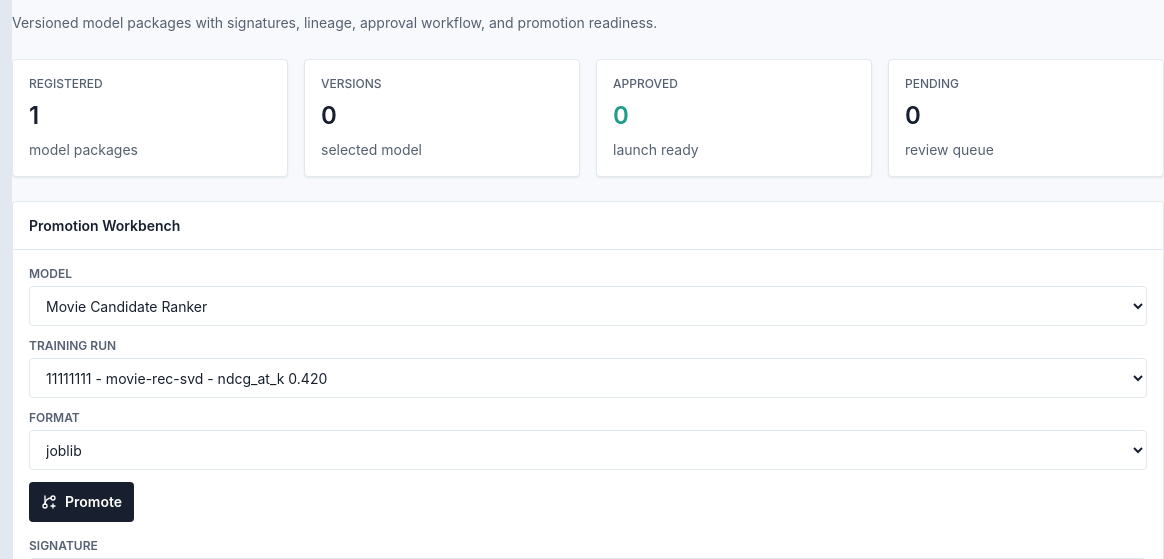
Scenario: ModelsPage › infers joblib format and recommender serving signature for movie-rec runs
Step 1. Click the button "Promote" → [82, 502], box x1=29 y1=482 x2=134 y2=522
(page scrolled)
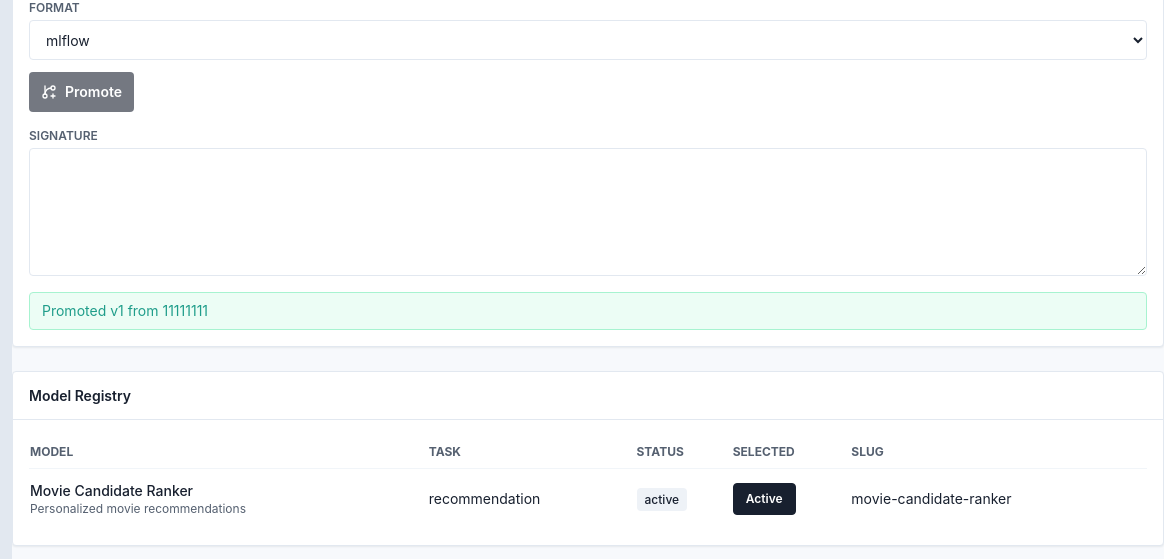
Check: the text "Promoted v1 from 11111111" is shown, box x1=29 y1=292 x2=1147 y2=330
